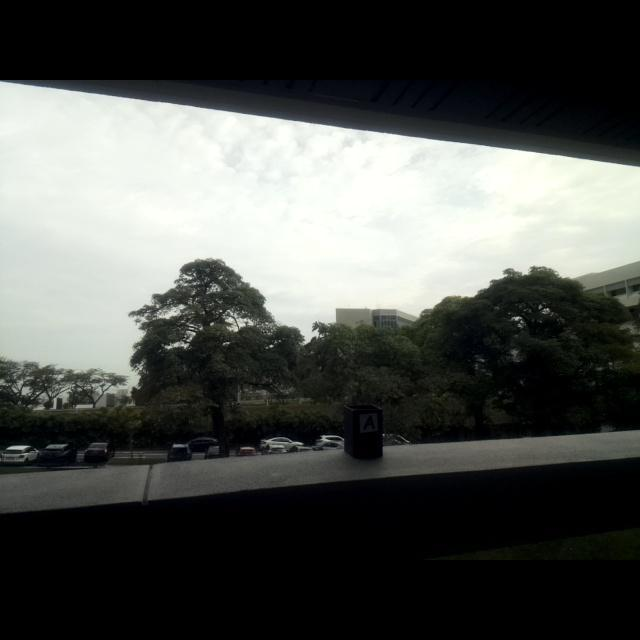A: (363, 416, 375, 430)
